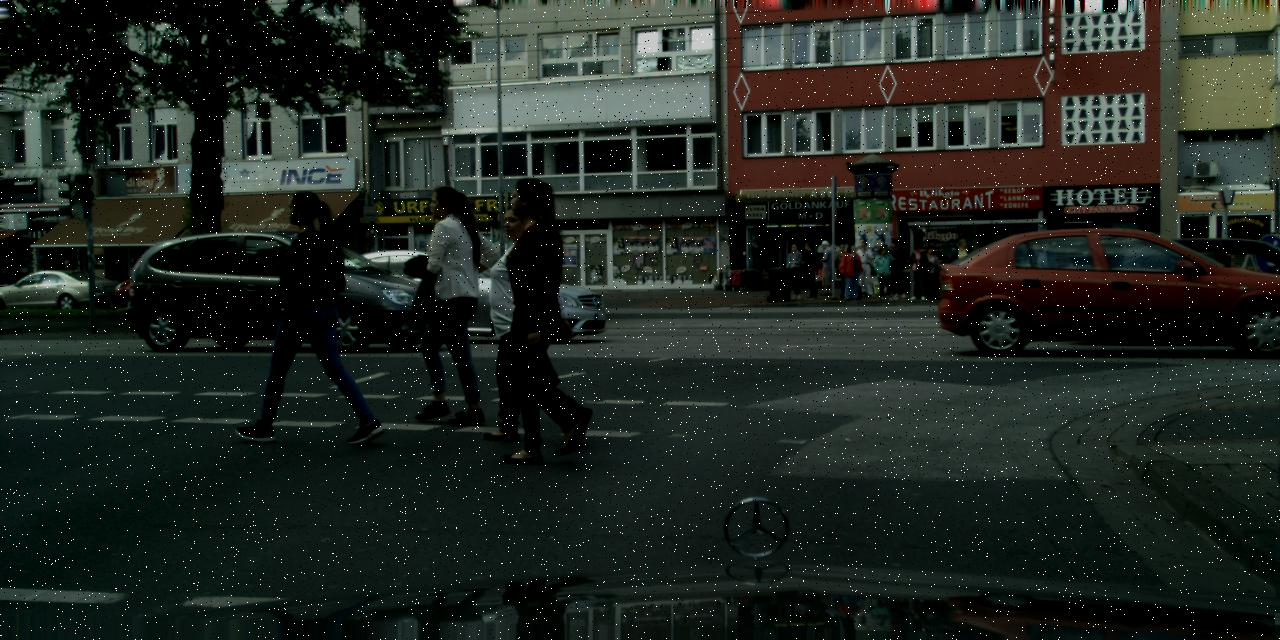ped: (483, 178, 598, 456), (258, 190, 360, 439), (402, 186, 498, 420), (484, 203, 579, 436), (886, 237, 910, 297), (950, 238, 974, 296), (799, 240, 822, 298), (831, 242, 854, 298), (853, 240, 876, 296), (839, 244, 862, 300), (906, 242, 928, 298), (784, 243, 806, 298), (815, 240, 837, 295), (920, 245, 941, 298), (875, 243, 896, 295), (874, 246, 894, 298), (60, 259, 78, 303), (112, 258, 129, 300)
